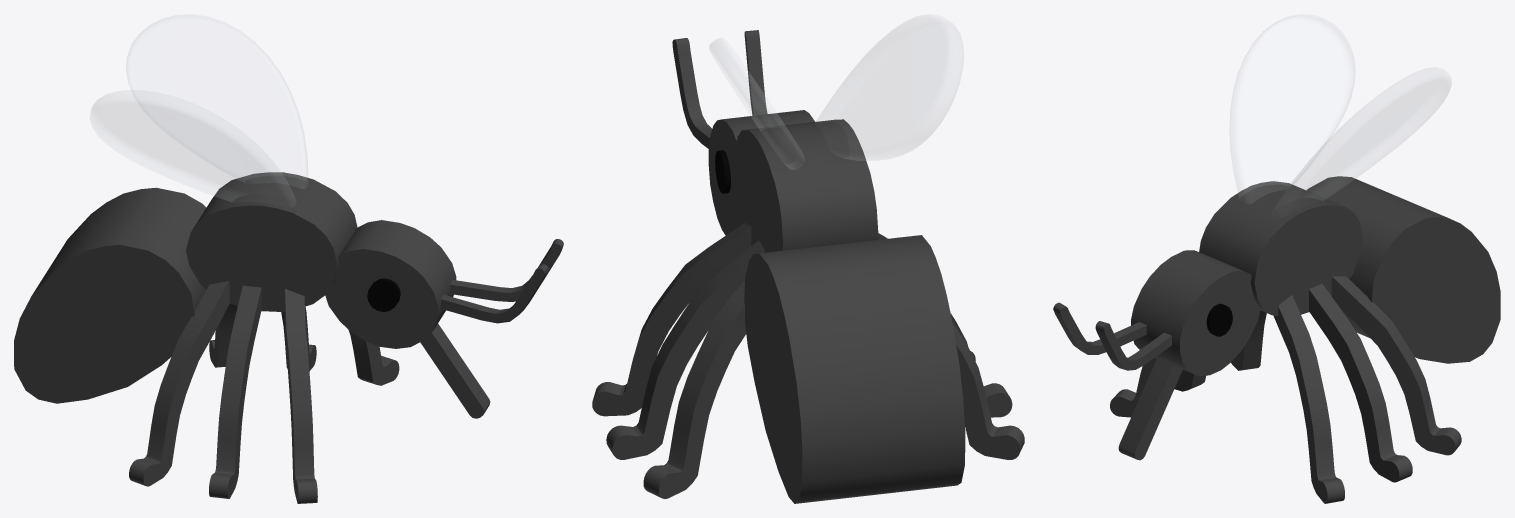
The model's file is mosquito.fbx.
3 renders of one model, left to right at view 1: azimuth 30°, elevation 25°; view 2: azimuth 150°, elevation 25°; view 3: azimuth 270°, elevation 25°, orthographic. The views are drawn at different scales.
Parts seen in each view (by area): view 1: Cube.159, Circle.2008, Cube.162, Cube.160, Cube.161, Circle.184, Cube.163, Circle.2007; view 2: Cube.159, Cube.162, Cube.160, Circle.184, Cube.161, Cube.163, Circle.2008, Circle.2007; view 3: Cube.159, Cube.162, Circle.184, Cube.160, Cube.161, Circle.2008, Cube.163, Circle.2007.
Boxes of the visible parts, x1,y1,x2,y2 form: Cube.159: (14,187,206,403); Circle.2008: (126,14,307,182); Cube.162: (129,281,399,503); Cube.160: (186,172,357,311); Cube.161: (325,220,490,418); Circle.184: (90,90,295,201); Cube.163: (440,239,563,323); Circle.2007: (367,278,400,311); Cube.159: (744,235,965,503); Cube.162: (592,223,1024,498); Cube.160: (734,119,878,252); Circle.184: (815,14,963,160); Cube.161: (708,110,814,235); Cube.163: (672,30,767,148); Circle.2008: (709,38,804,169); Circle.2007: (715,150,730,193); Cube.159: (1306,176,1500,363); Cube.162: (1110,276,1461,503); Circle.184: (1230,14,1354,197); Cube.160: (1199,181,1362,315); Cube.161: (1118,250,1260,460); Circle.2008: (1273,67,1451,210); Cube.163: (1053,302,1171,370); Circle.2007: (1206,303,1232,336).
Bounding box in the file's own units: 192 × 170 × 192.
Materials: 2 (1 with a texture image).
